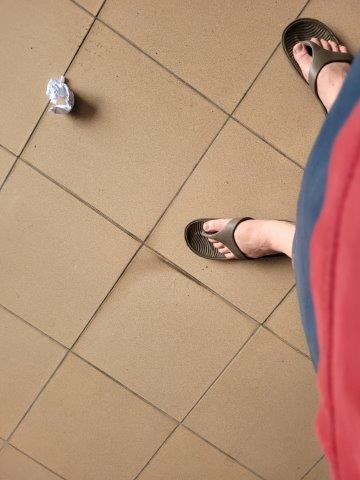kertas: (45, 76, 79, 116)
